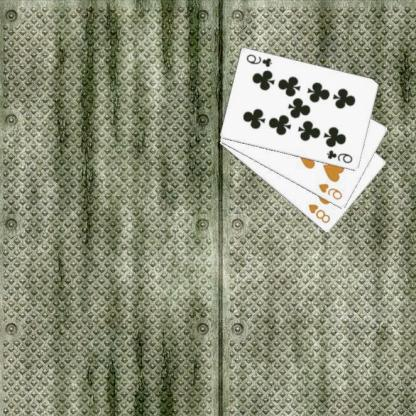8H: (307, 201, 334, 225)
9C: (326, 147, 356, 165), (246, 51, 275, 68)
9H: (317, 181, 346, 201)
